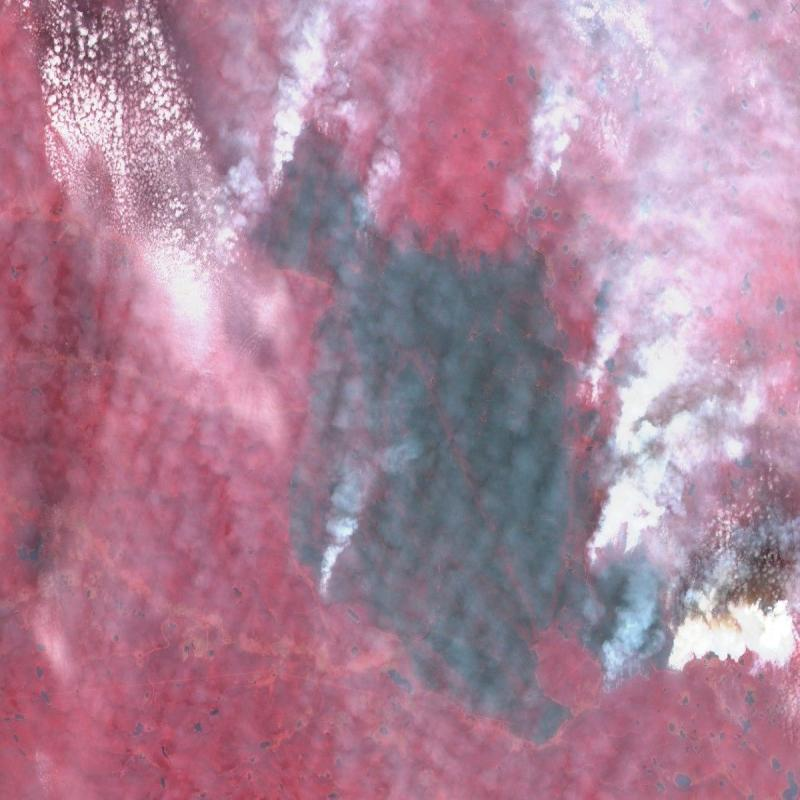fire: (215, 114, 387, 296), (580, 529, 690, 695), (515, 132, 569, 223), (607, 393, 658, 478), (314, 568, 343, 615)
